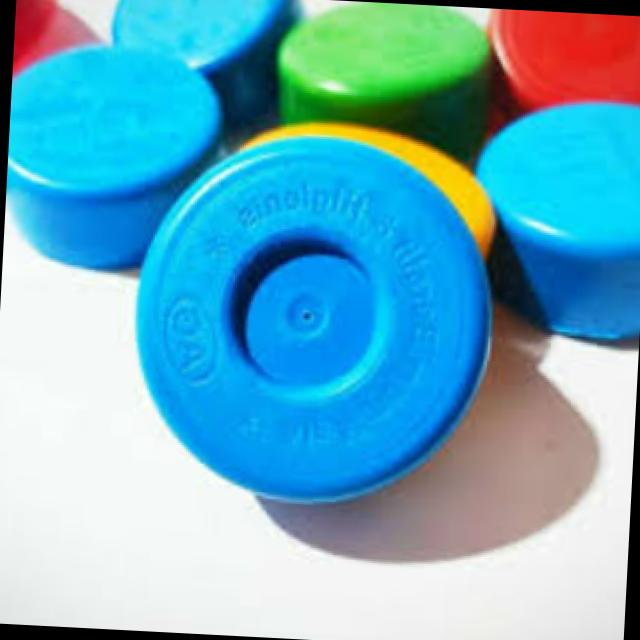TutupGalon: (0, 0, 640, 525)
